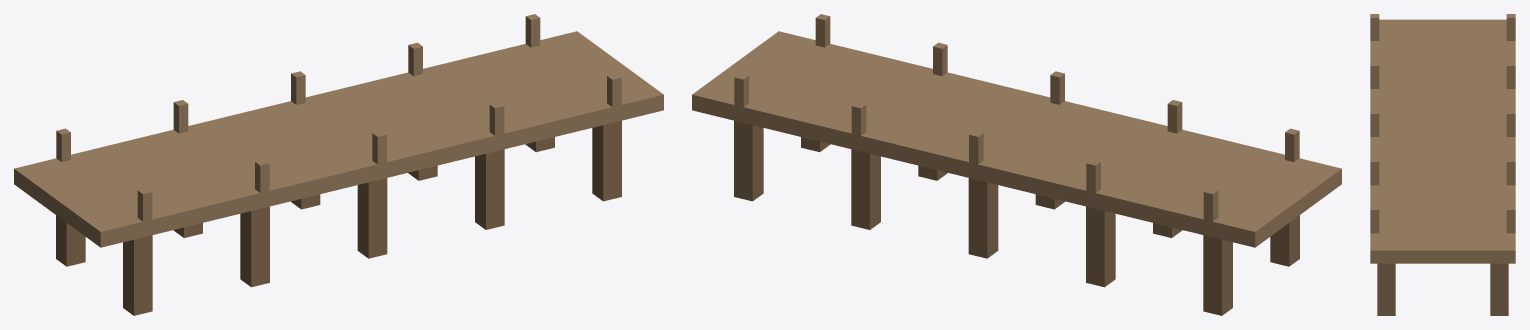
The model's file is Pier.fbx.
The picture shows the model from 3 angles, left to right: view 1: azimuth 30°, elevation 25°; view 2: azimuth 150°, elevation 25°; view 3: azimuth 270°, elevation 25°; orthographic projection. The views are drawn at different scales.
Visible parts, largest first — view 1: Pier; view 2: Pier; view 3: Pier.
Boxes of the visible parts, box(x1,y1,x2,y2) form: Pier: box(14, 14, 663, 315); Pier: box(692, 14, 1341, 315); Pier: box(1370, 14, 1515, 315).
Bounding box in the file's own units: 6 × 1.26 × 1.6.
